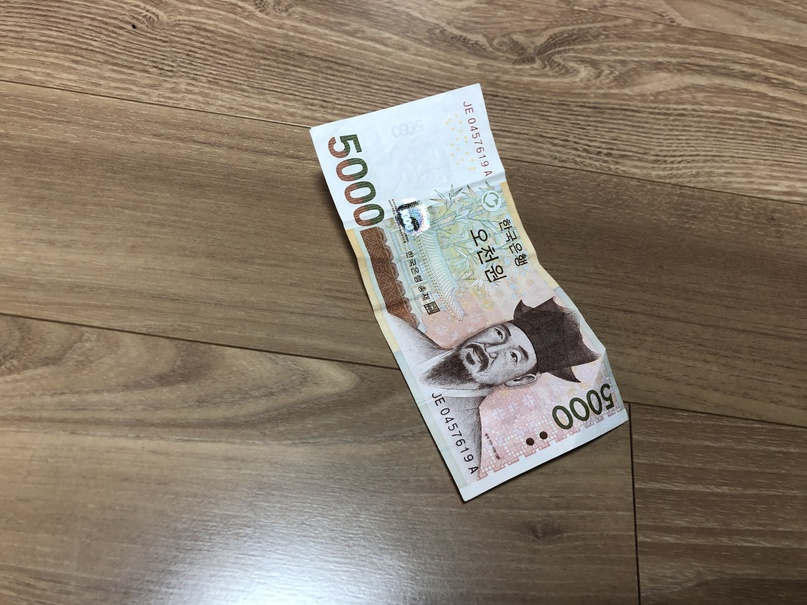5000won: (308, 82, 628, 502)
